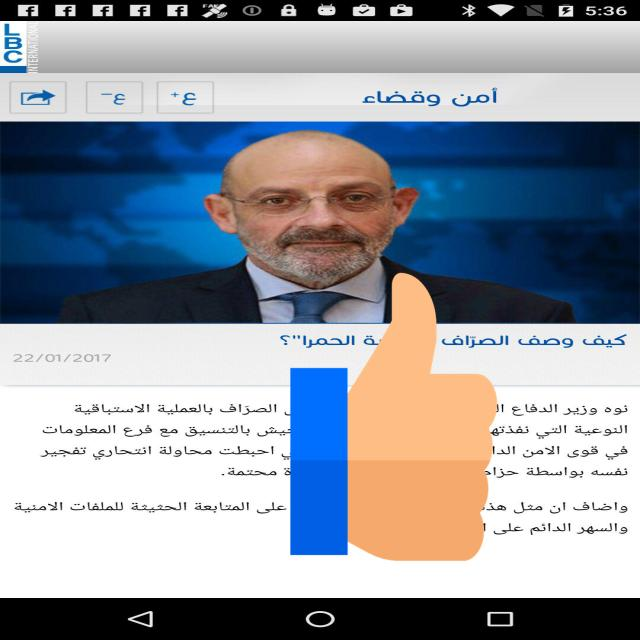privacy zuckering: (290, 266, 498, 568)
